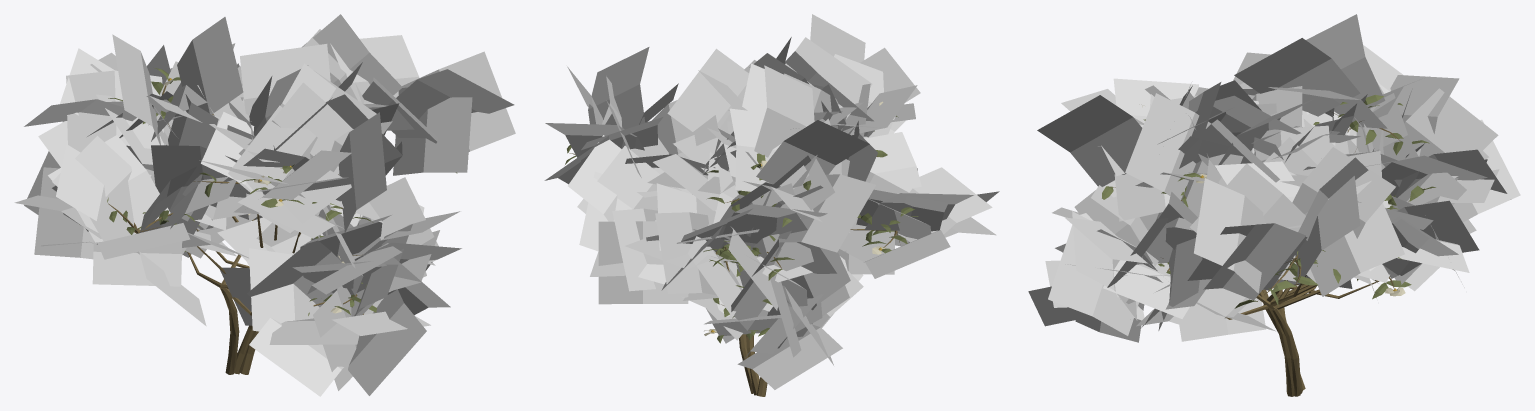
File: Ciste_Dense_LOD1.fbx
3 renders of one model, left to right at view 1: azimuth 30°, elevation 25°; view 2: azimuth 150°, elevation 25°; view 3: azimuth 270°, elevation 25°, orthographic. The views are drawn at different scales.
Visible parts, largest first — view 1: Ciste_Dense_LOD1; view 2: Ciste_Dense_LOD1; view 3: Ciste_Dense_LOD1.
Boxes of the visible parts, left/top/right/bottom form: Ciste_Dense_LOD1: left=14, top=14, right=515, bottom=396; Ciste_Dense_LOD1: left=544, top=14, right=999, bottom=396; Ciste_Dense_LOD1: left=1028, top=14, right=1520, bottom=396.
Size of the model in its own units: 164 by 126 by 160.
